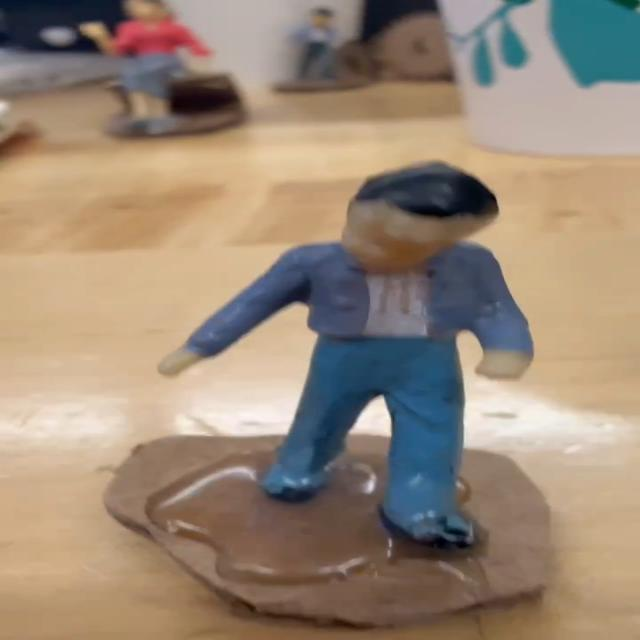Authorized: (118, 131, 587, 600)
